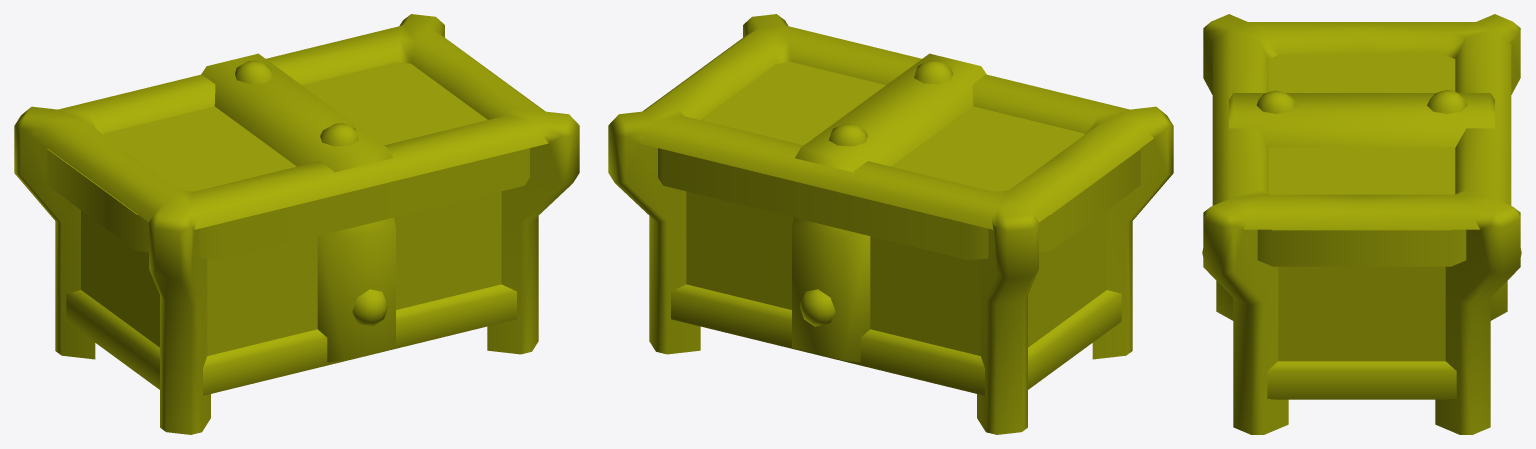
File: SM_Crates_05.fbx
The picture shows the model from 3 angles, left to right: view 1: azimuth 30°, elevation 25°; view 2: azimuth 150°, elevation 25°; view 3: azimuth 270°, elevation 25°; orthographic projection.
Visible parts, largest first — view 1: Crates_05; view 2: Crates_05; view 3: Crates_05.
Part boxes in pixels (x1,y1,x2,y2): Crates_05: (14, 14, 579, 434); Crates_05: (608, 14, 1173, 434); Crates_05: (1202, 14, 1521, 434).
Bounding box in the file's own units: 122 × 69.17 × 79.67.
